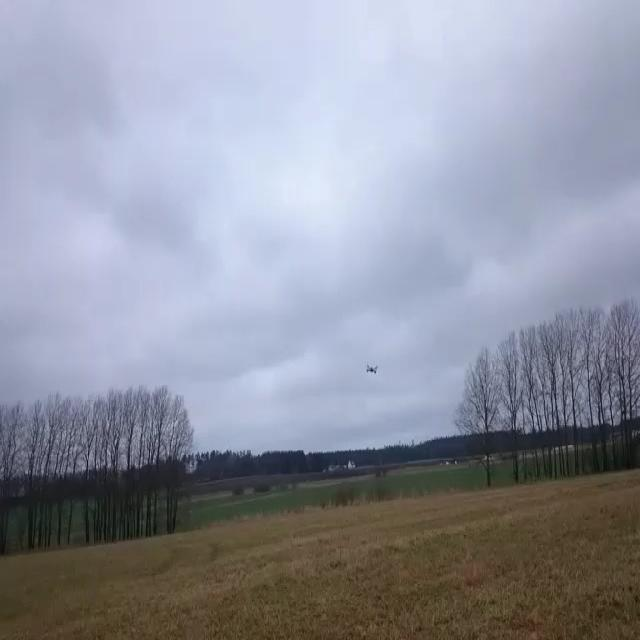drone: (365, 363, 378, 375)
